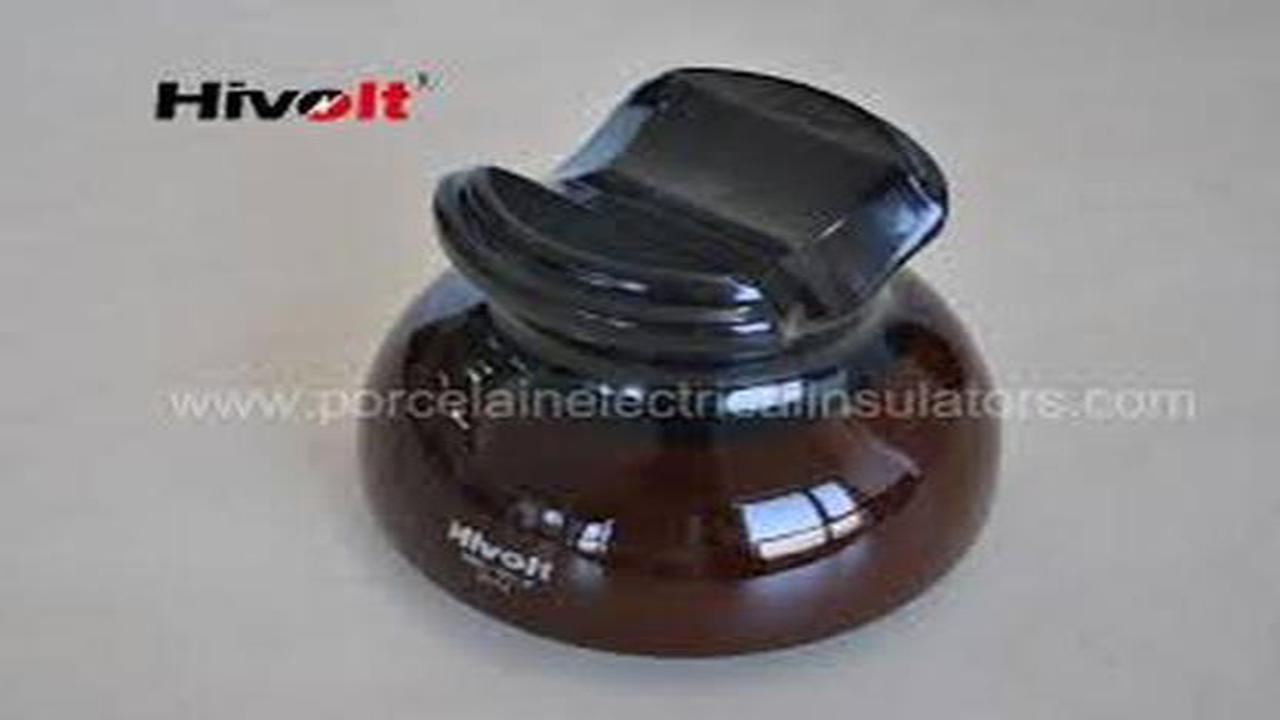insulator_pin: (341, 63, 1013, 667)
